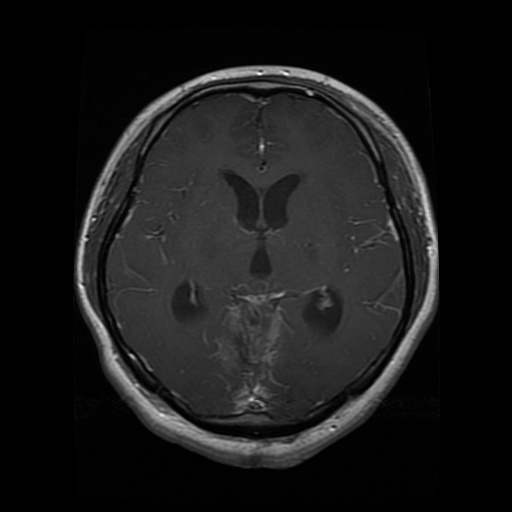glioma: (206, 280, 294, 412)
